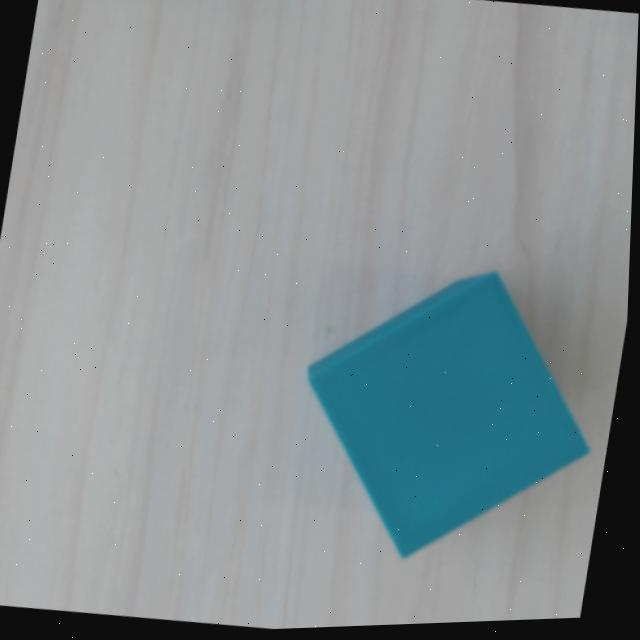Kubus-Hijau-505050: (295, 262, 595, 559)
